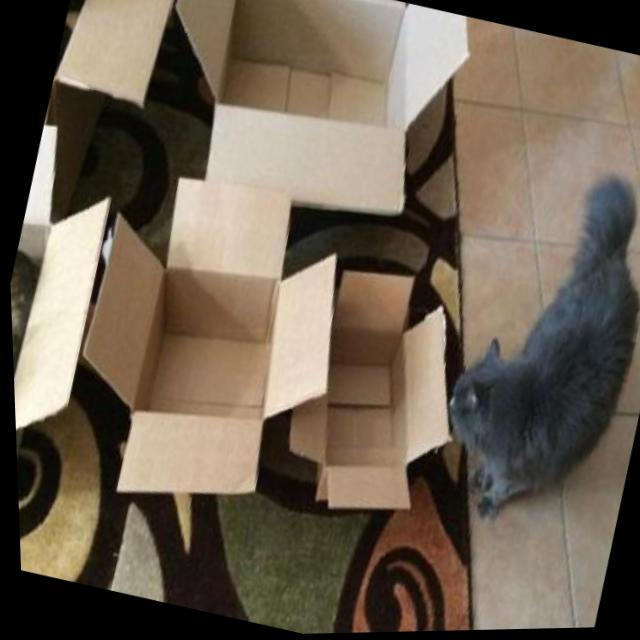box: (38, 150, 371, 562), (128, 0, 511, 257), (260, 250, 504, 580), (3, 116, 140, 563)
